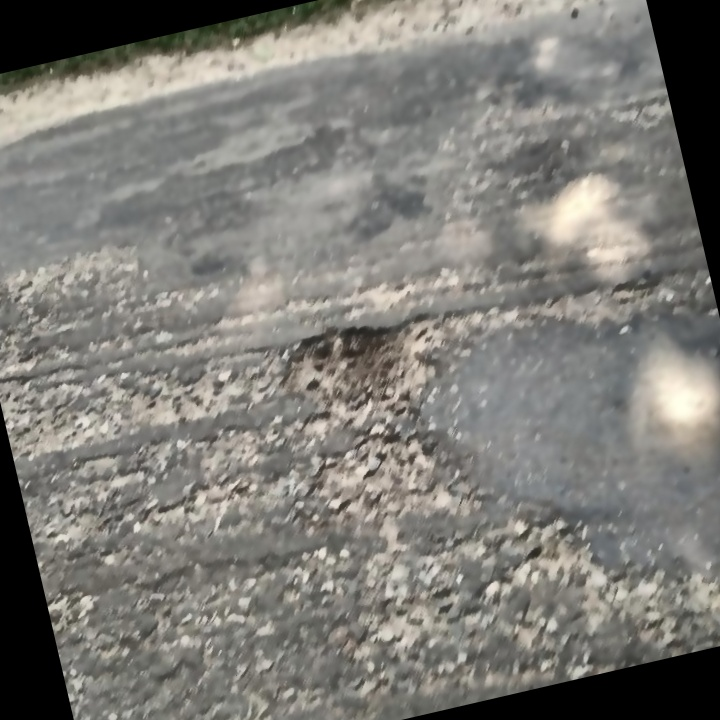pothole: (272, 299, 458, 441)
